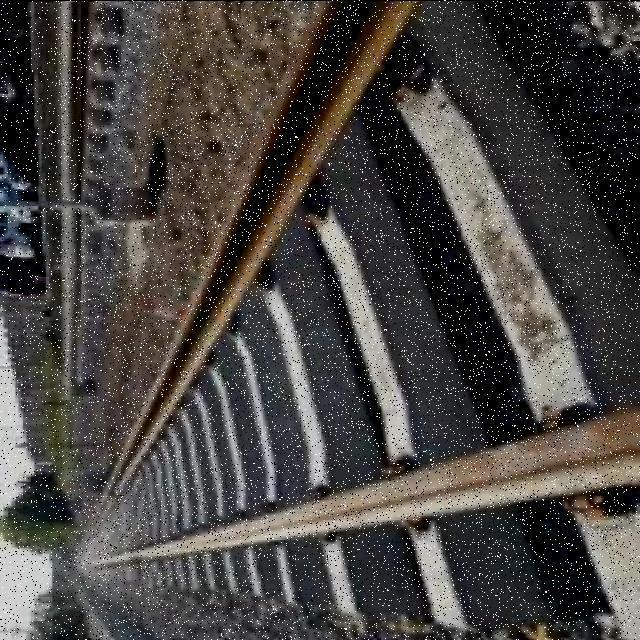rail: (54, 2, 633, 637)
